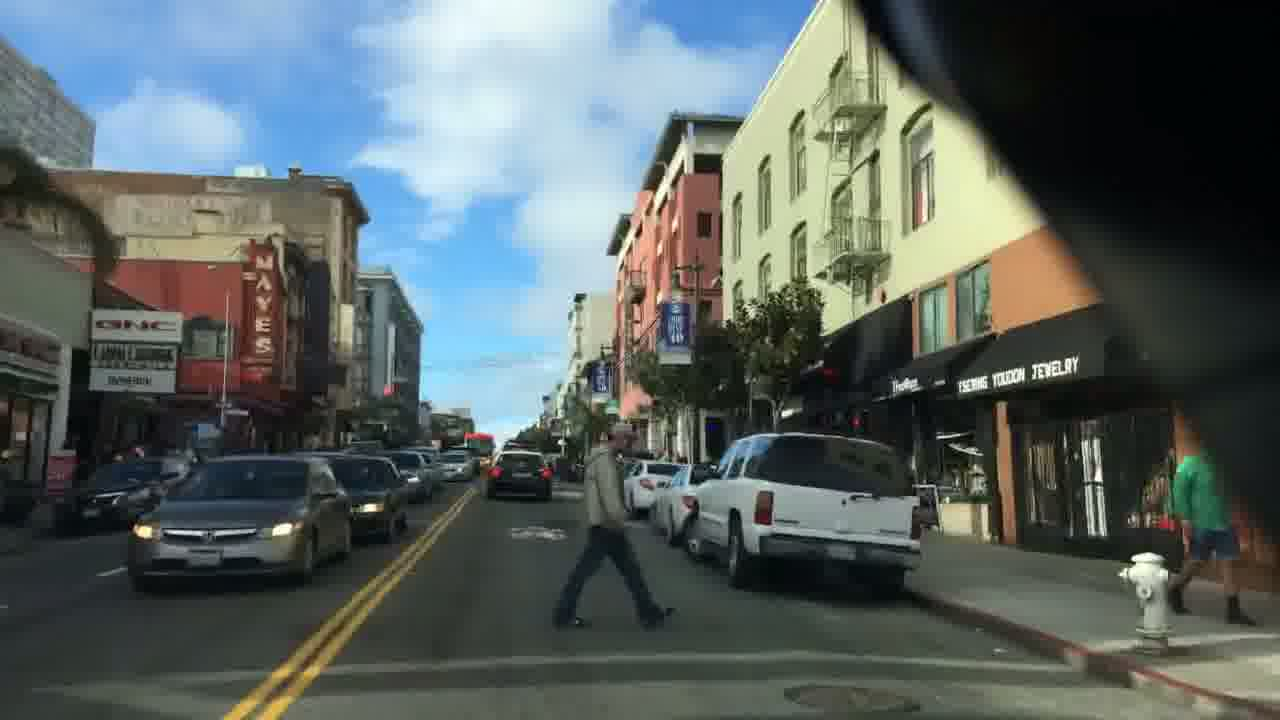car: (678, 430, 922, 594), (126, 451, 352, 593), (52, 453, 193, 537), (314, 453, 415, 543), (646, 463, 714, 548), (485, 449, 552, 502), (623, 459, 681, 520), (436, 449, 473, 481)
pedestrian: (549, 419, 678, 633), (1163, 442, 1258, 628)
